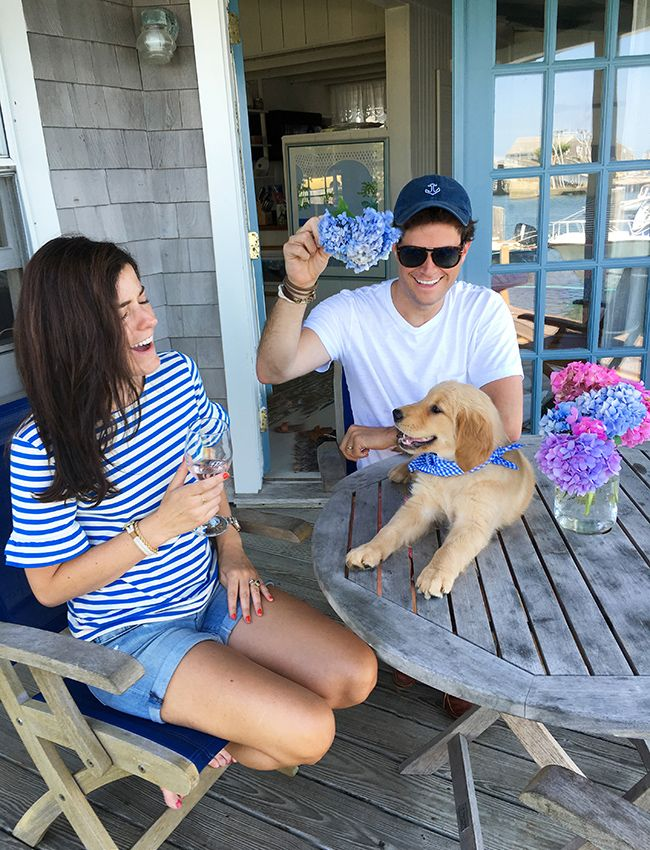Person: (4, 234, 263, 628), (258, 170, 524, 382)
